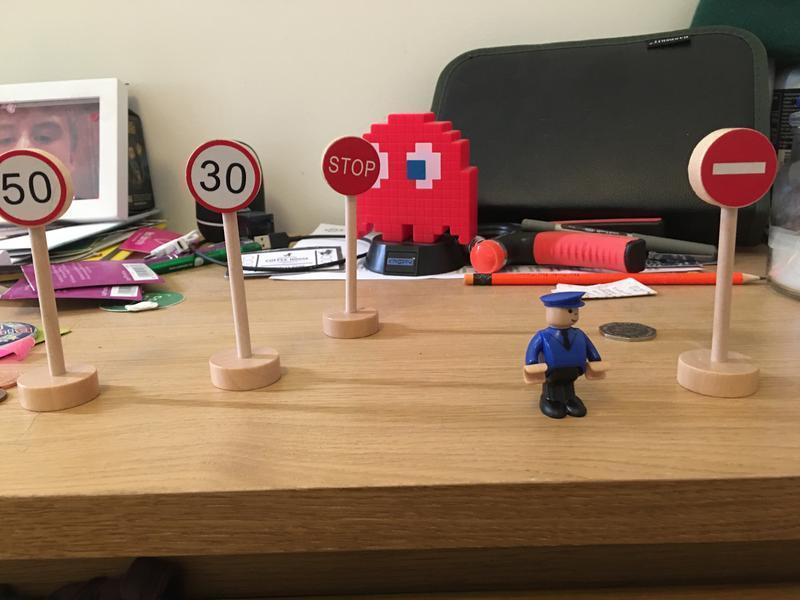Traffic_Sign_30: (185, 140, 262, 211)
Traffic_Sign_50: (1, 149, 70, 227)
Traffic_Sign_No_Entry: (698, 130, 776, 206)
Traffic_Sign_Stop: (323, 135, 380, 196)
person: (520, 289, 612, 428)
